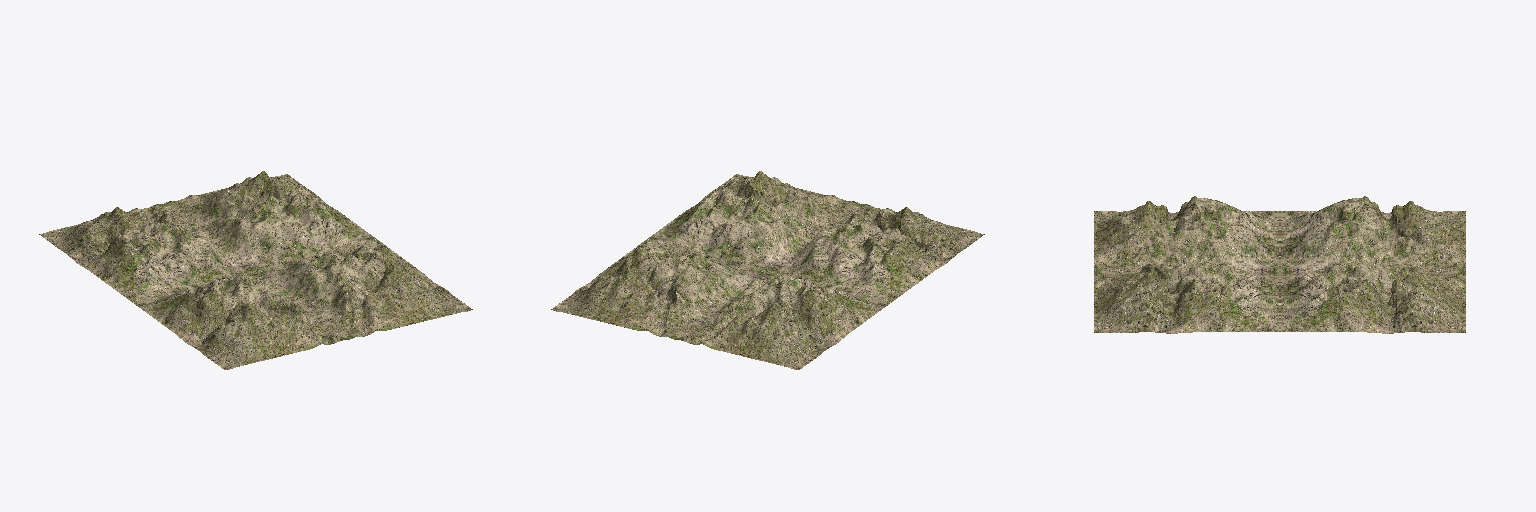
The picture shows the model from 3 angles: view 1: azimuth 30°, elevation 25°; view 2: azimuth 150°, elevation 25°; view 3: azimuth 270°, elevation 25°; orthographic projection.
Visible parts, largest first — view 1: Landscape.003_Landscape.005, Landscape.002_Landscape.004, Landscape.001_Landscape.003, Landscape; view 2: Landscape.001_Landscape.003, Landscape, Landscape.003_Landscape.005, Landscape.002_Landscape.004; view 3: Landscape, Landscape.002_Landscape.004, Landscape.001_Landscape.003, Landscape.003_Landscape.005.
Boxes of the visible parts, <box> form: Landscape.003_Landscape.005: <box>39,204,255,301</box>; Landscape.002_Landscape.004: <box>164,171,379,271</box>; Landscape.001_Landscape.003: <box>132,272,347,369</box>; Landscape: <box>257,242,472,339</box>; Landscape.001_Landscape.003: <box>768,204,984,301</box>; Landscape: <box>644,171,859,271</box>; Landscape.003_Landscape.005: <box>676,272,891,369</box>; Landscape.002_Landscape.004: <box>551,242,766,339</box>; Landscape: <box>1094,261,1279,333</box>; Landscape.002_Landscape.004: <box>1280,261,1465,333</box>; Landscape.001_Landscape.003: <box>1094,196,1279,271</box>; Landscape.003_Landscape.005: <box>1280,196,1465,271</box>.
Bounding box in the file's own units: 12.93 × 1.88 × 16.77.
1 materials, 1 textured.